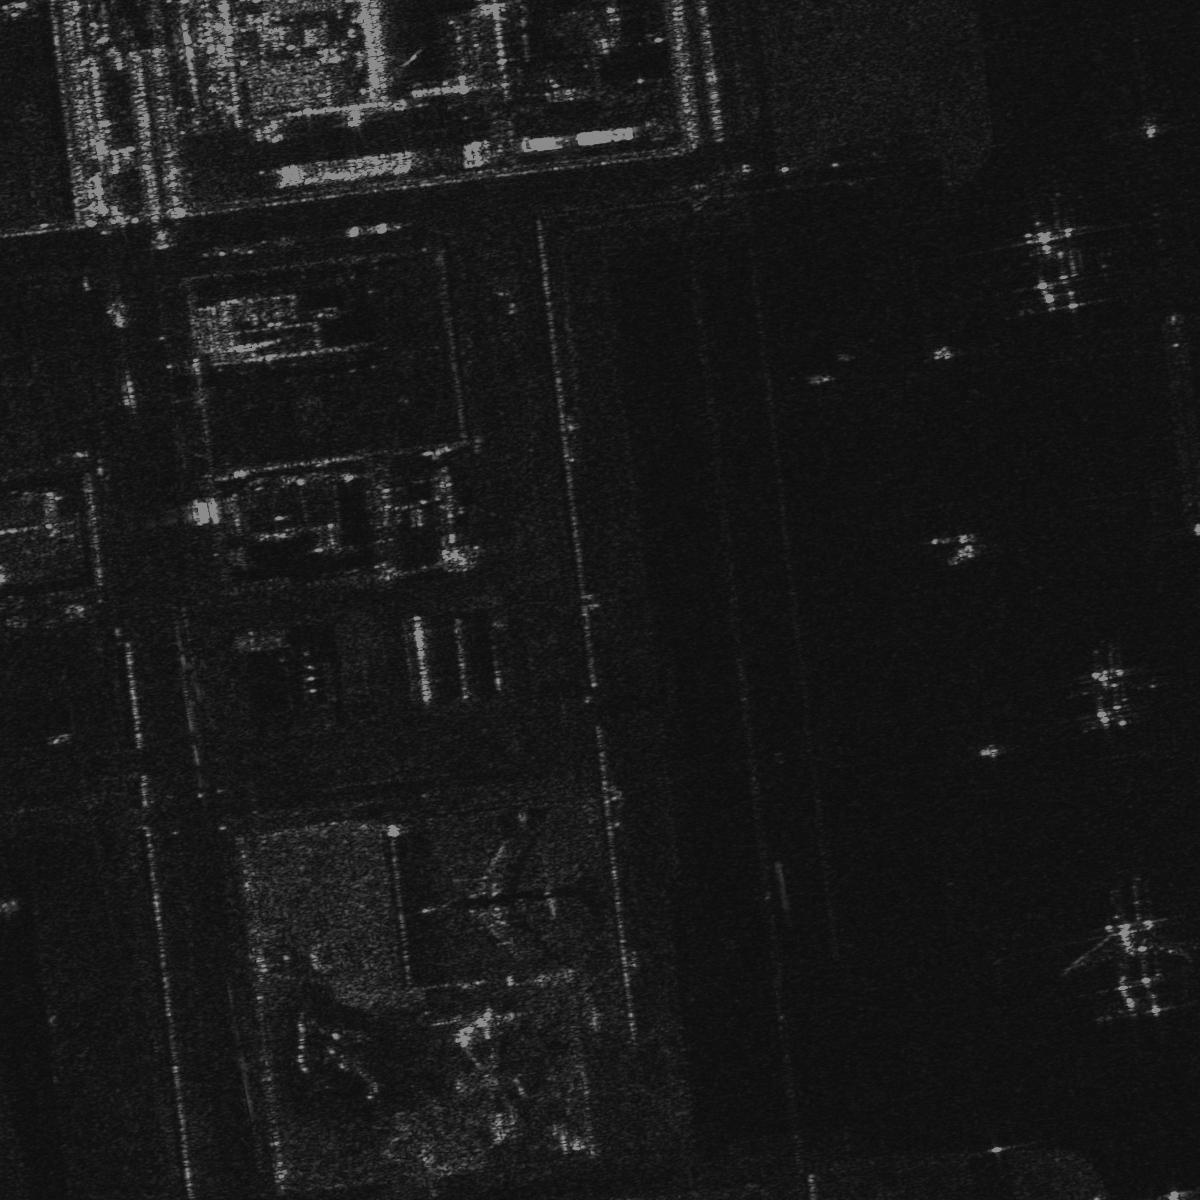Boeing787: (1059, 636, 1159, 734)
other: (407, 800, 605, 975), (1062, 895, 1199, 1022), (980, 202, 1115, 322)
